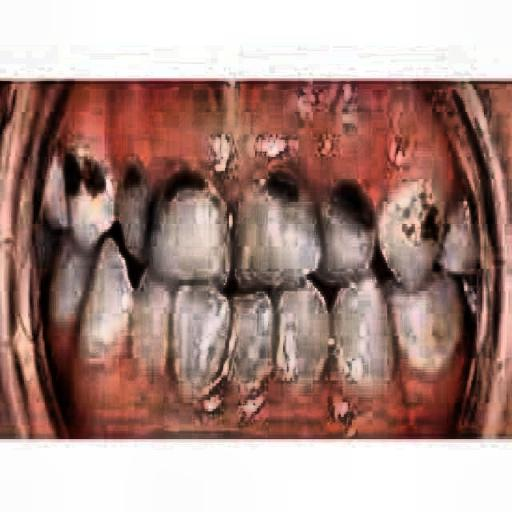Caries: (61, 134, 471, 250)
